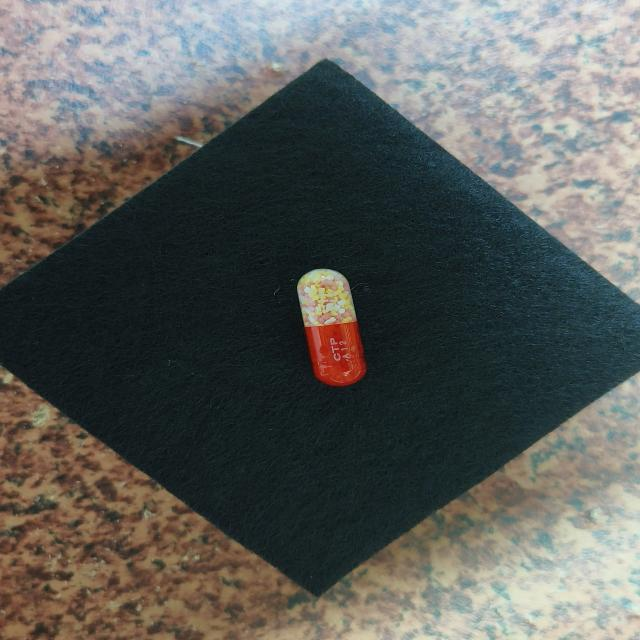Intact Capsule: (297, 269, 367, 386)
